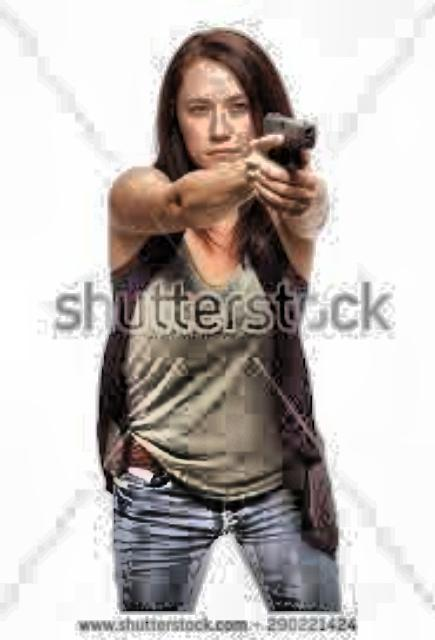pistol: (252, 111, 322, 183)
